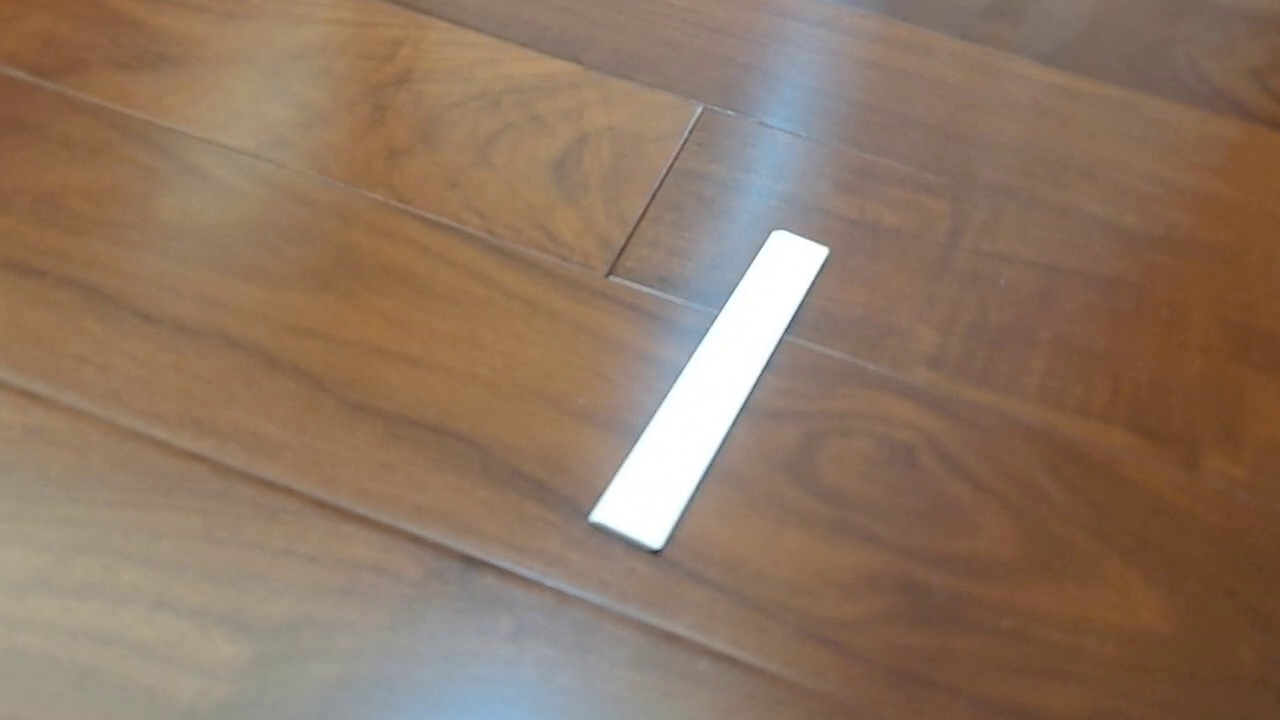ruler: (585, 227, 833, 556)
